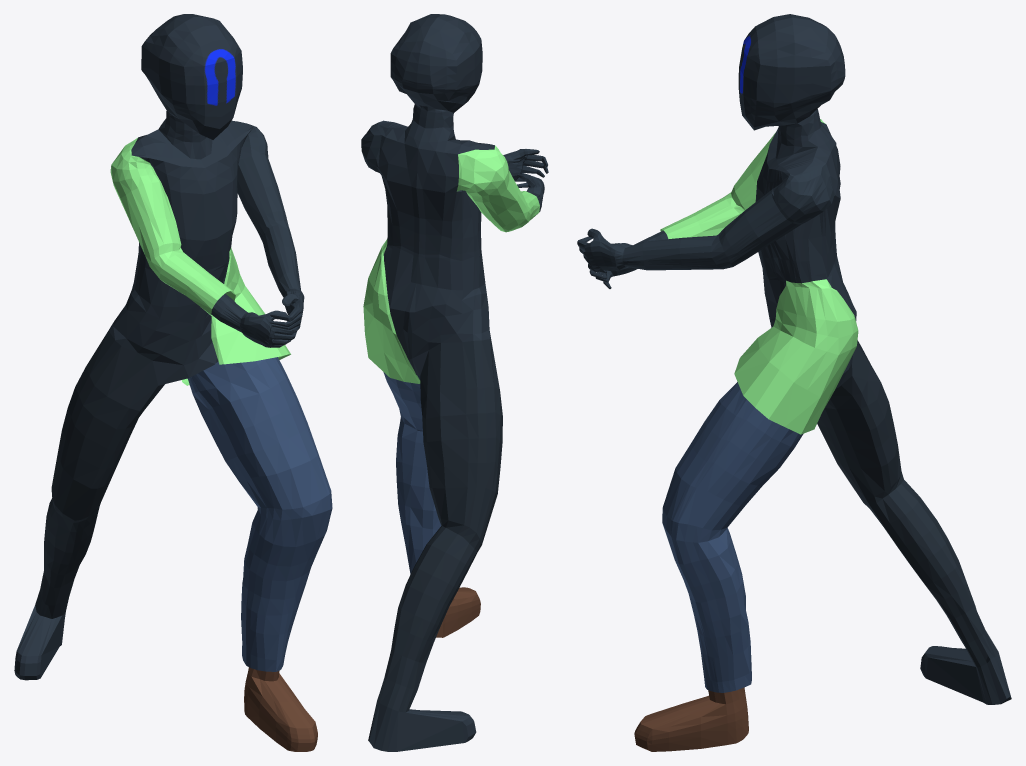
Rendered from Mar_WL_000002.obj.
3 views of the same model, side by side, from view 1: azimuth 30°, elevation 25°; view 2: azimuth 150°, elevation 25°; view 3: azimuth 270°, elevation 25° (orthographic). The views are drawn at different scales.
Parts seen in each view (by area): view 1: Cube.000_Cube.001; view 2: Cube.000_Cube.001; view 3: Cube.000_Cube.001.
Part boxes in pixels (x1,y1,x2,y2): Cube.000_Cube.001: [14, 14, 332, 751]; Cube.000_Cube.001: [361, 14, 548, 751]; Cube.000_Cube.001: [577, 14, 1011, 751].
Bounding box in the file's own units: 1.09 × 3.73 × 2.07.
